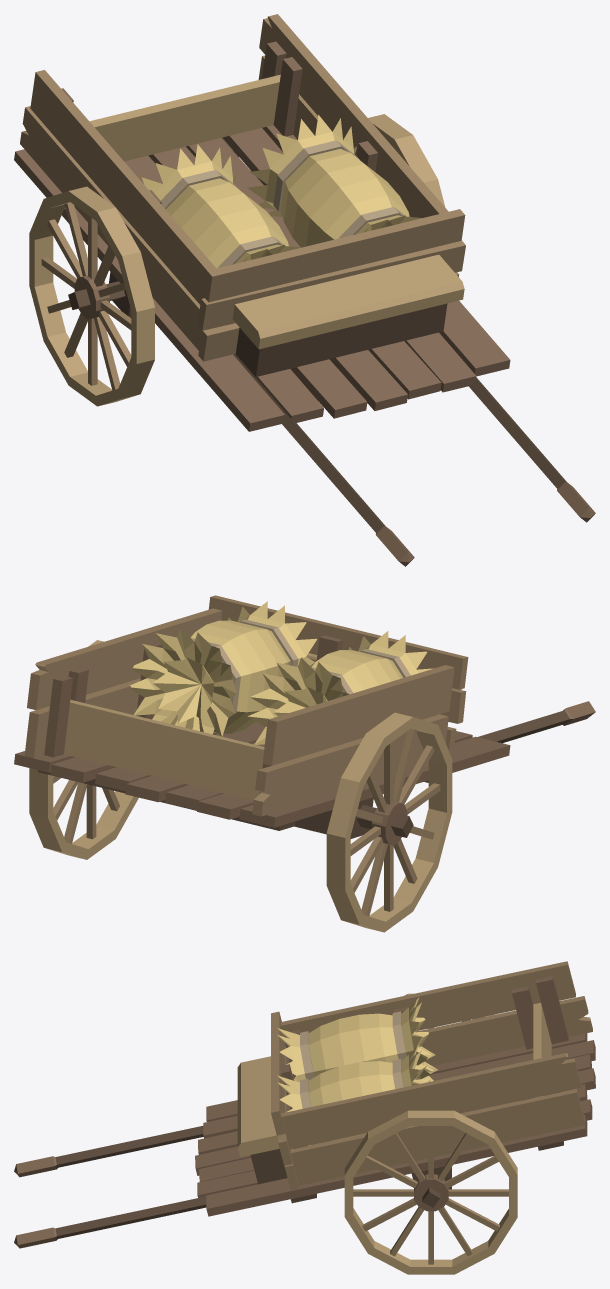
Rendered from Prop_Cart_1_Hay.obj.
3 renders of one model, top to bottom at view 1: azimuth 30°, elevation 25°; view 2: azimuth 150°, elevation 25°; view 3: azimuth 270°, elevation 25°, orthographic. The views are drawn at different scales.
Visible parts, largest first — view 1: object12, object39, object23, object1, object38, object19, object32, object17, object9, object6, object20, object5 (+12 smaller); view 2: object39, object32, object23, object1, object38, object6, object20, object17, object21, object19, object9, object26 (+15 smaller); view 3: object17, object26, object38, object21, object1, object7, object8, object20, object39, object12, object25, object28 (+11 smaller).
Part boxes in pixels (x1,y1,x2,y2): object12: [232, 254, 464, 376]; object39: [247, 114, 422, 247]; object23: [29, 186, 154, 406]; object1: [30, 70, 216, 304]; object38: [142, 144, 301, 268]; object19: [203, 209, 465, 302]; object32: [89, 74, 280, 161]; object17: [259, 14, 448, 217]; object9: [14, 149, 284, 431]; object6: [41, 202, 131, 390]; object20: [20, 106, 201, 350]; object5: [186, 138, 441, 399]; object39: [129, 601, 316, 736]; object32: [64, 699, 264, 800]; object23: [326, 712, 452, 932]; object1: [262, 665, 454, 765]; object38: [247, 631, 440, 744]; object6: [350, 728, 440, 916]; object20: [252, 714, 448, 816]; object17: [27, 608, 222, 710]; object21: [29, 640, 138, 859]; object19: [208, 595, 468, 689]; object9: [239, 736, 510, 827]; object26: [24, 678, 140, 758]; object17: [281, 1053, 581, 1149]; object26: [290, 1089, 585, 1185]; object38: [277, 997, 437, 1082]; object21: [344, 1110, 517, 1274]; object1: [281, 961, 575, 1032]; object7: [353, 1126, 508, 1264]; object8: [206, 1115, 587, 1216]; object20: [418, 996, 592, 1065]; object39: [277, 1044, 430, 1149]; object12: [237, 1056, 287, 1184]; object25: [14, 1196, 206, 1248]; object28: [14, 1126, 203, 1177].
Bounding box in the file's own units: 1.8 × 1.3 × 3.36.
